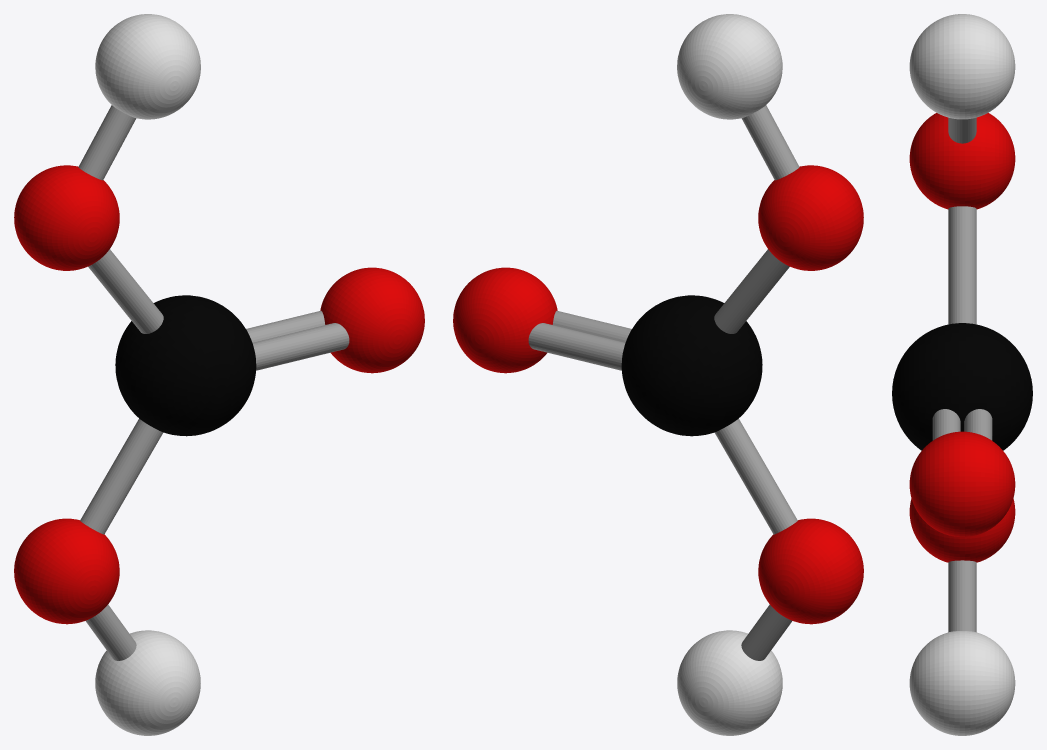
File: SodiumCarbonate.glb
The picture shows the model from 3 angles, left to right: view 1: azimuth 30°, elevation 25°; view 2: azimuth 150°, elevation 25°; view 3: azimuth 270°, elevation 25°; orthographic projection.
Visible parts, largest first — view 1: world; view 2: world; view 3: world.
Boxes of the visible parts, left/top/right/bottom form: world: left=14, top=14, right=424, bottom=735; world: left=453, top=14, right=863, bottom=735; world: left=892, top=14, right=1032, bottom=735.
Size of the model in its own units: 2.6 by 4.46 by 0.8.
